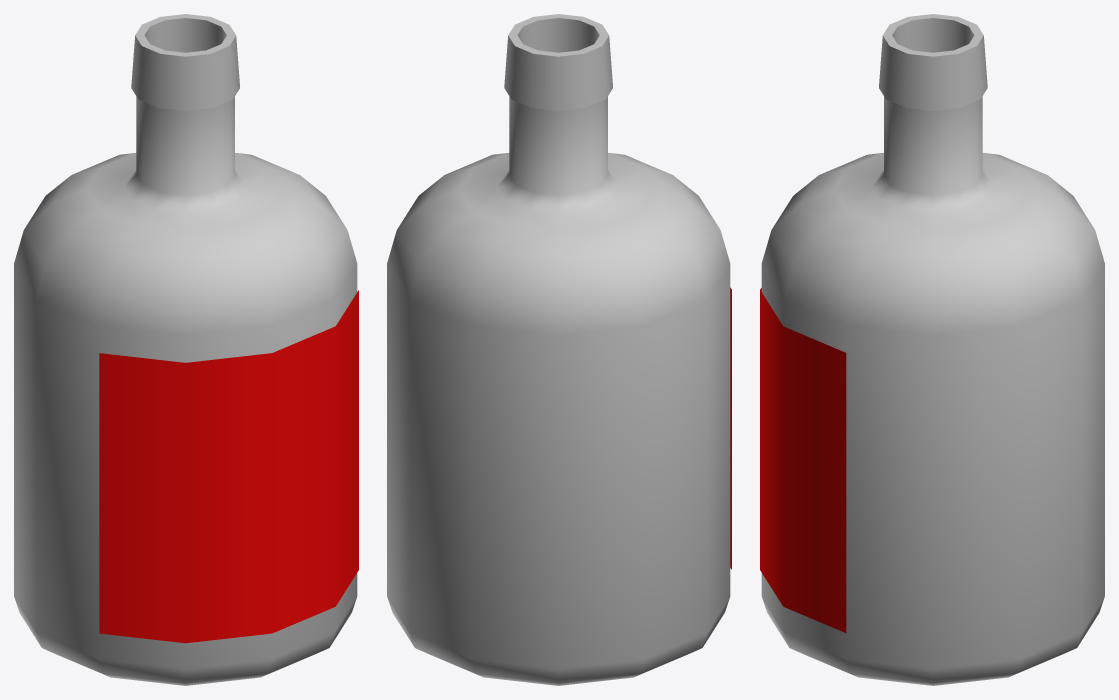
The model's file is Bottle03b_2.fbx.
The picture shows the model from 3 angles, left to right: view 1: azimuth 30°, elevation 25°; view 2: azimuth 150°, elevation 25°; view 3: azimuth 270°, elevation 25°; orthographic projection.
Parts seen in each view (by area): view 1: Bottle03b; view 2: Bottle03b; view 3: Bottle03b.
Part boxes in pixels (box(x1,y1,x2,y2)): Bottle03b: box(14, 14, 358, 685); Bottle03b: box(387, 14, 731, 685); Bottle03b: box(760, 14, 1104, 685).
Size of the model in its own units: 10.6 by 20.13 by 10.65.
